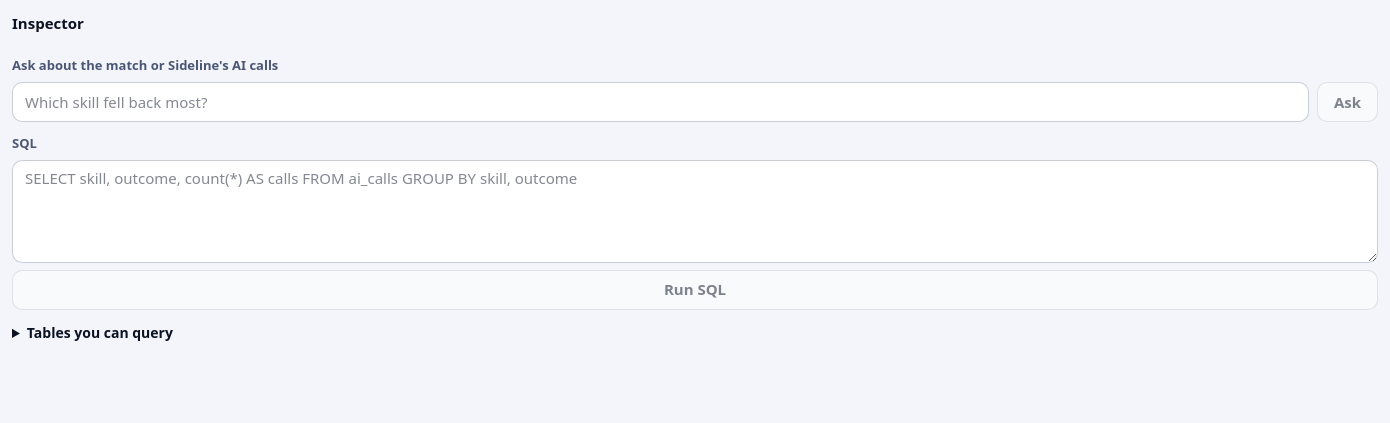
Test: InspectorQuery (PLAN 9.2) › says what happened on no_query
Type "x" into the field labelled "Ask about the match or Sideline's AI calls".
click(660, 102); type("x")  # box [12,82,1309,122]
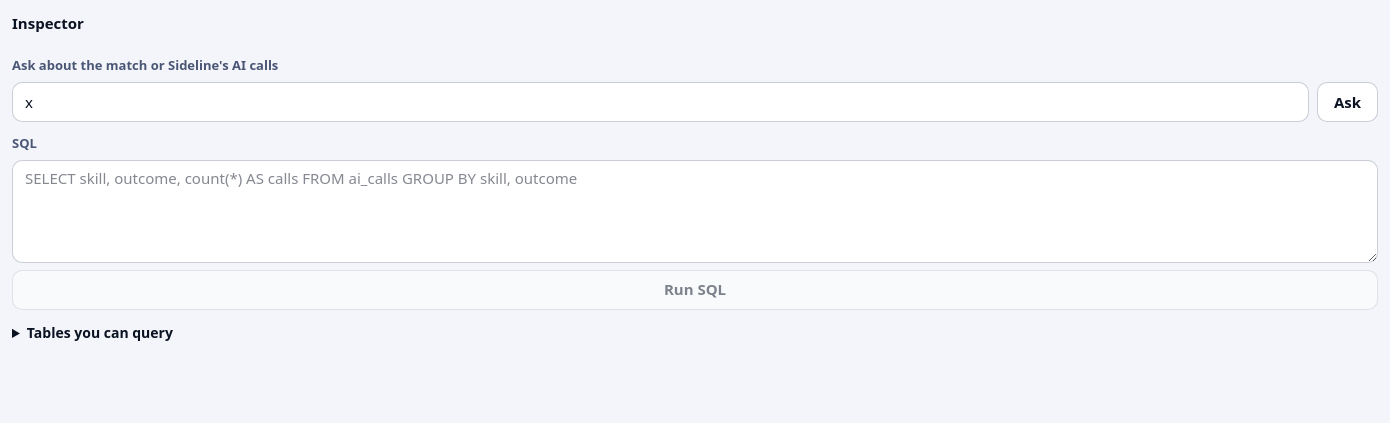
Click the button "Ask".
click(1347, 102)  # box [1317,82,1378,122]
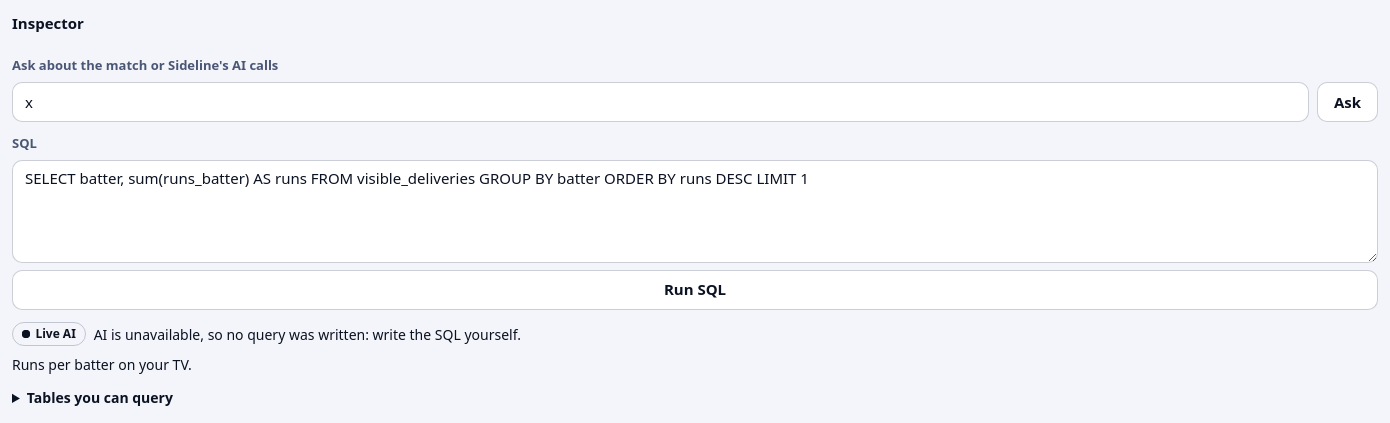
Check: the text "AI is unavailable, so no query was written: write the SQL yourself." is shown, box [94,324,521,344]
